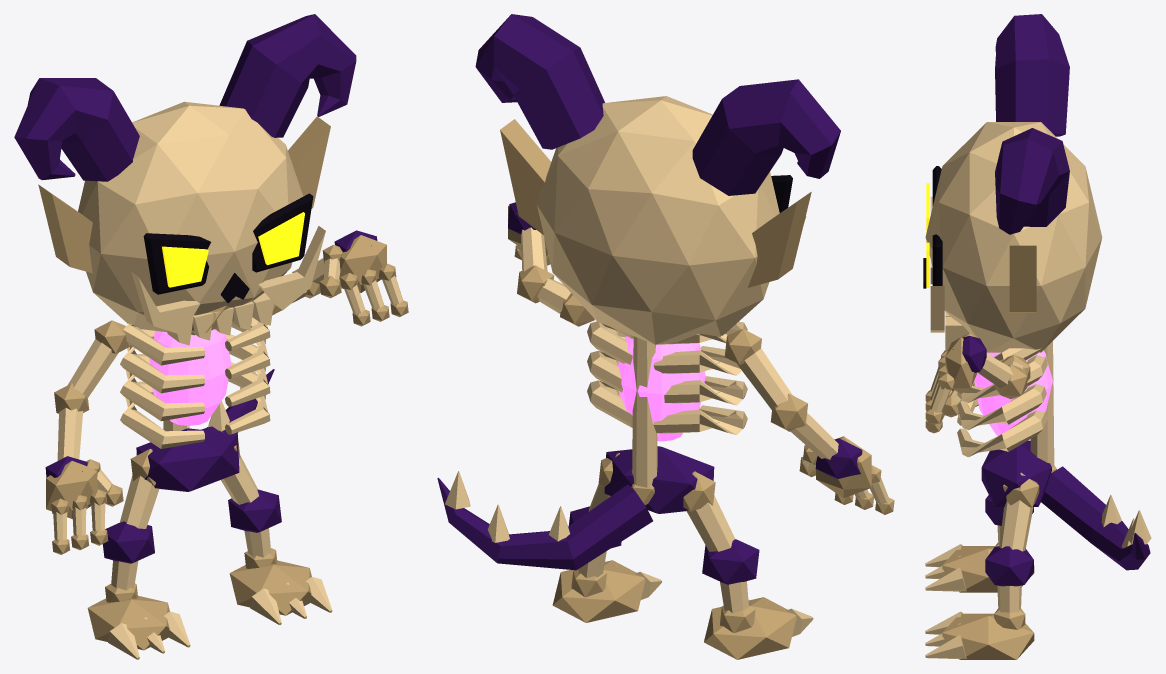
Rendered from SkeletonImp.fbx.
3 renders of one model, left to right at view 1: azimuth 30°, elevation 25°; view 2: azimuth 150°, elevation 25°; view 3: azimuth 270°, elevation 25°, orthographic. The views are drawn at different scales.
Parts seen in each view (by area): view 1: Demon skull, Curled purple horn1, Curled purple horn-1, Pelvis, Violet soul, Foot-1, Foot1, Elfin bone ear-1, Elfin bone ear1, ImpEye-1_Socket, Cheek ridge1, Palm-1 (+25 smaller); view 2: Demon skull, Curled purple horn-1, Curled purple horn1, Imp articulated tail, Pelvis, Foot-1, Foot1, Violet soul, Elfin bone ear1, Elfin bone ear-1, Spine_Shaft, Floating rib0-1 (+21 smaller); view 3: Demon skull, Curled purple horn-1, Curled purple horn1, Imp articulated tail, Foot1, Pelvis, Elfin bone ear1, Floating rib01, Floating rib11, Foot-1, Knee wrap1, Violet soul (+19 smaller).
Part boxes in pixels (left/top/right/bottom): Demon skull: left=78, top=101, right=303, bottom=335; Curled purple horn1: left=219, top=14, right=356, bottom=137; Curled purple horn-1: left=14, top=78, right=139, bottom=181; Pelvis: left=136, top=428, right=239, bottom=491; Violet soul: left=149, top=329, right=231, bottom=425; Foot-1: left=87, top=595, right=169, bottom=650; Foot1: left=229, top=560, right=311, bottom=615; Elfin bone ear-1: left=38, top=184, right=92, bottom=273; Elfin bone ear1: left=288, top=116, right=330, bottom=208; ImpEye-1_Socket: left=143, top=233, right=210, bottom=294; Cheek ridge1: left=258, top=226, right=325, bottom=309; Palm-1: left=46, top=461, right=97, bottom=518; Demon skull: left=537, top=96, right=779, bottom=344; Curled purple horn-1: left=692, top=79, right=840, bottom=195; Curled purple horn1: left=475, top=14, right=604, bottom=149; Imp articulated tail: left=437, top=477, right=652, bottom=570; Pelvis: left=604, top=446, right=714, bottom=513; Foot-1: left=704, top=597, right=796, bottom=659; Foot1: left=552, top=560, right=645, bottom=622; Violet soul: left=618, top=336, right=705, bottom=441; Elfin bone ear1: left=500, top=119, right=551, bottom=235; Elfin bone ear-1: left=747, top=192, right=811, bottom=287; Spine_Shaft: left=632, top=336, right=657, bottom=487; Floating rib0-1: left=653, top=405, right=747, bottom=434; Demon skull: left=925, top=122, right=1102, bottom=352; Curled purple horn-1: left=995, top=14, right=1069, bottom=136; Curled purple horn1: left=995, top=128, right=1069, bottom=234; Imp articulated tail: left=1041, top=466, right=1150, bottom=570; Foot1: left=942, top=613, right=1034, bottom=659; Pelvis: left=981, top=440, right=1051, bottom=506; Elfin bone ear1: left=1009, top=245, right=1036, bottom=312; Floating rib01: left=957, top=410, right=1047, bottom=457; Floating rib11: left=957, top=384, right=1046, bottom=430; Foot-1: left=942, top=546, right=1034, bottom=592; Knee wrap1: left=985, top=546, right=1033, bottom=586; Violet soul: left=974, top=350, right=1053, bottom=435.
Bounding box in the file's own units: 280 × 425 × 160.
